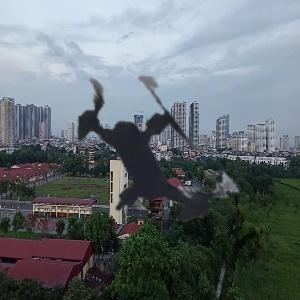drone: (3, 16, 283, 296)
